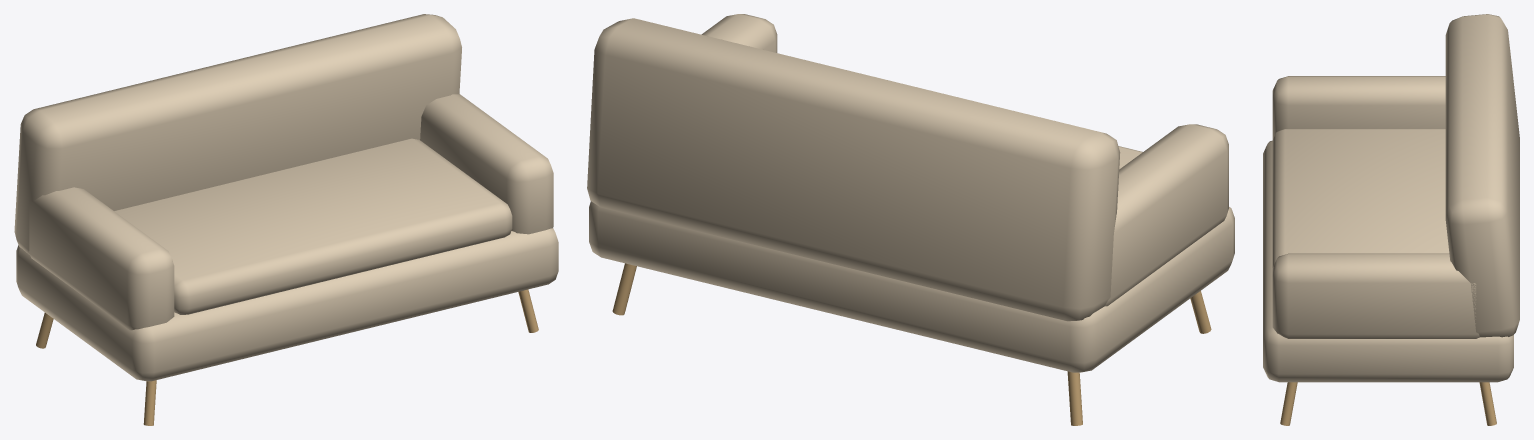
Rendered from i_arm_3.glb.
3 views of the same model, side by side, from view 1: azimuth 30°, elevation 25°; view 2: azimuth 150°, elevation 25°; view 3: azimuth 270°, elevation 25° (orthographic). The views are drawn at different scales.
Parts seen in each view (by area): view 1: o.002, o.001, o, o.003, o.004; view 2: o.002, o, o.003, o.004, o.006, o.008; view 3: o.001, o.002, o.004, o, o.003, o.008, o.007.
Part boxes in pixels (box(x1,y1,x2,y2)): o.002: box(14, 14, 461, 254); o.001: box(114, 138, 512, 314); o: box(16, 228, 558, 381); o.003: box(29, 187, 174, 330); o.004: box(420, 94, 553, 234); o.002: box(587, 18, 1120, 321); o: box(589, 201, 1234, 372); o.003: box(1105, 124, 1228, 306); o.004: box(701, 14, 777, 52); o.006: box(1067, 371, 1082, 425); o.008: box(612, 263, 636, 315); o.001: box(1272, 129, 1449, 267); o.002: box(1445, 14, 1519, 337); o.004: box(1272, 253, 1479, 338); o: box(1263, 140, 1513, 382); o.003: box(1272, 76, 1445, 139); o.008: box(1479, 382, 1496, 425); o.007: box(1280, 382, 1297, 425).
Bounding box in the file's own units: 1.5 × 0.8064 × 0.8185.
